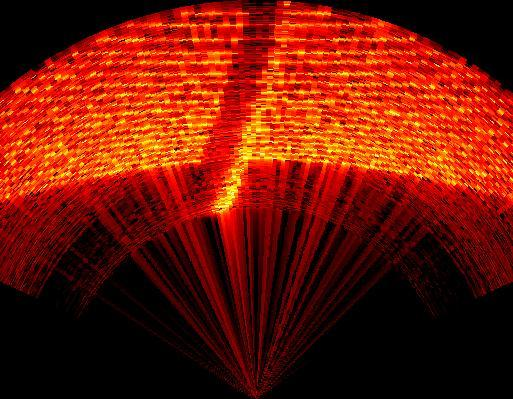pipe: (188, 1, 284, 207)
